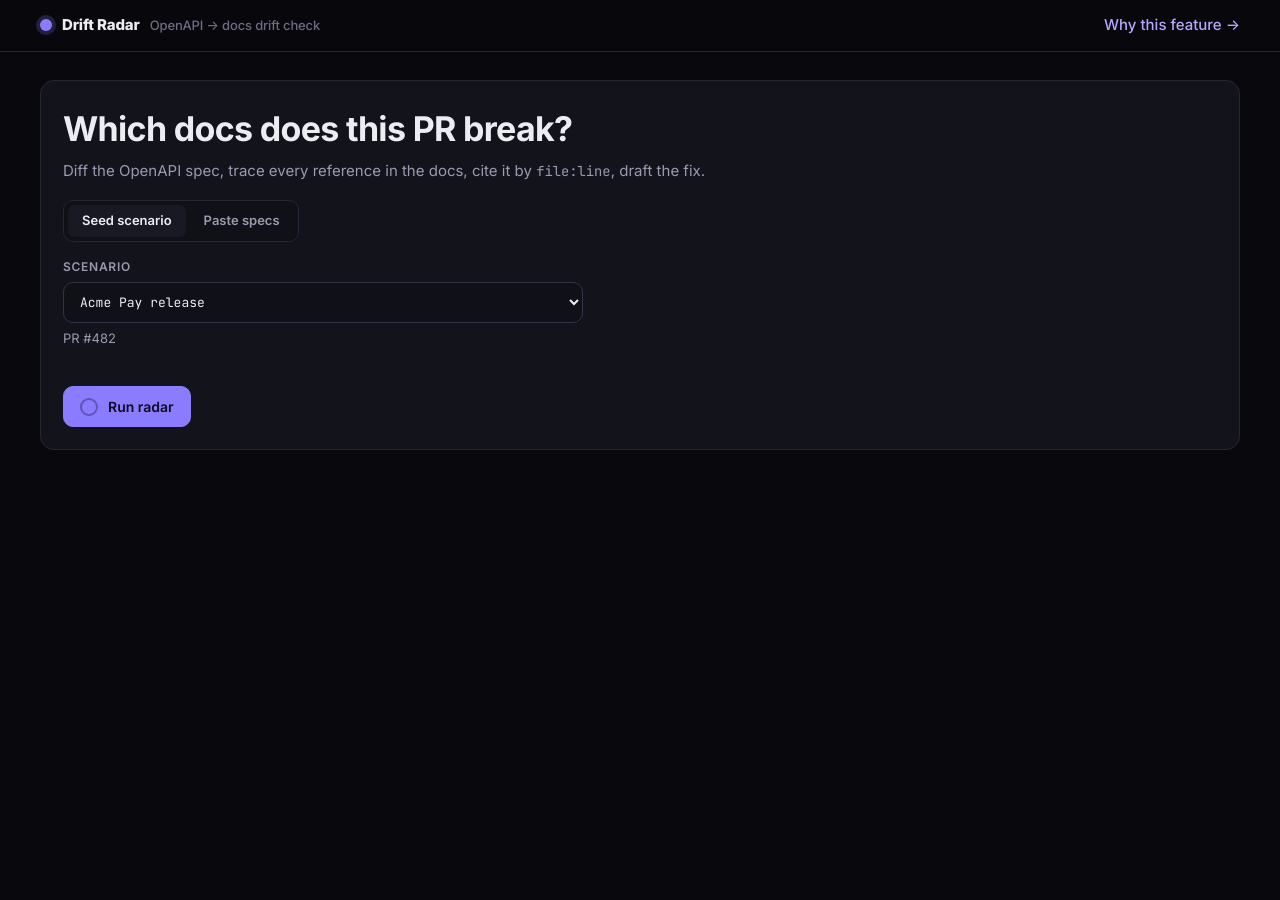
Radar page › surfaces API errors from pasted specs
The image size is (1280, 900).
Click the tab "Paste specs" at (242,221), box [190,205,294,236]
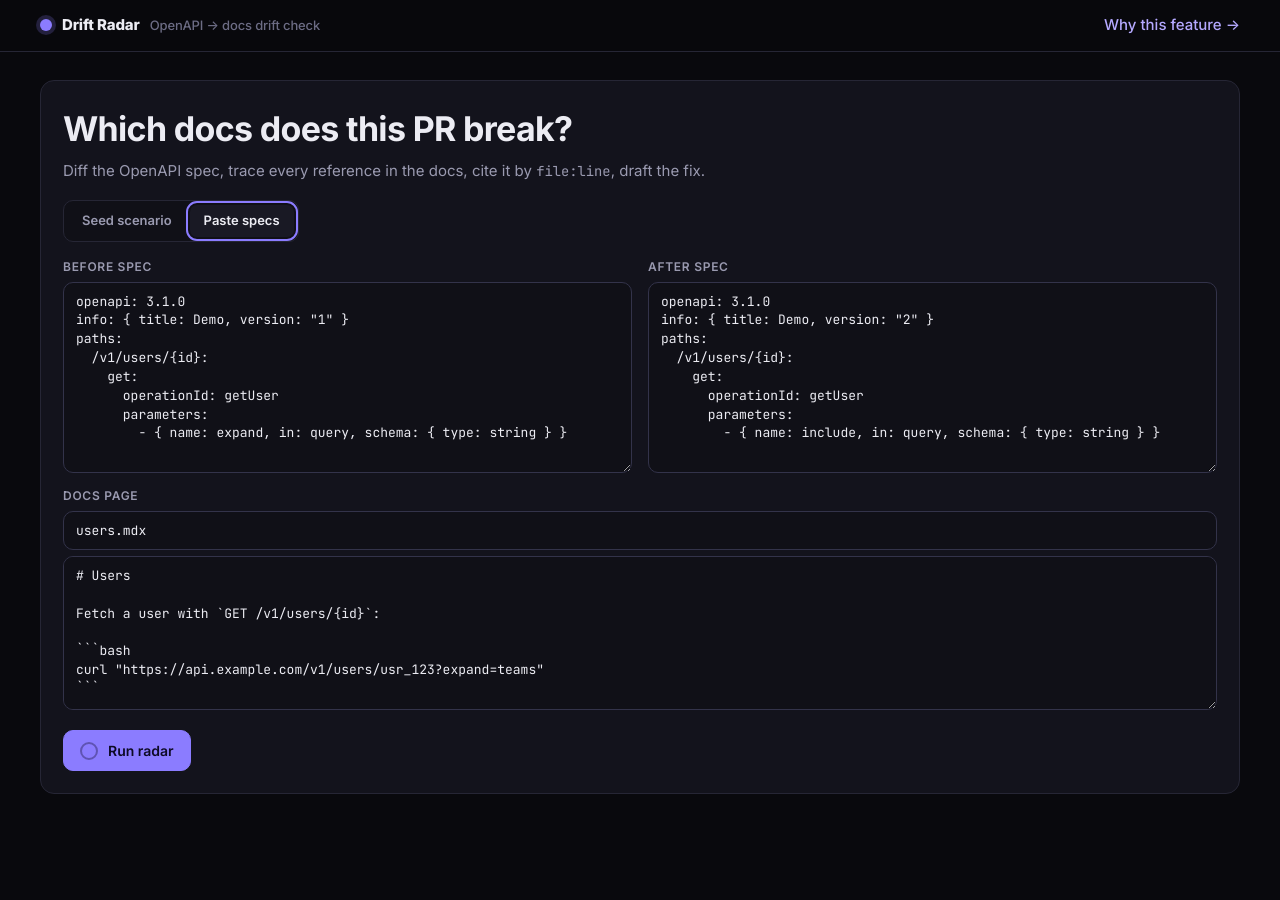
Replace the text in the text box labelled "Before spec" with "bad" at (348,377), box [63,282,632,473]
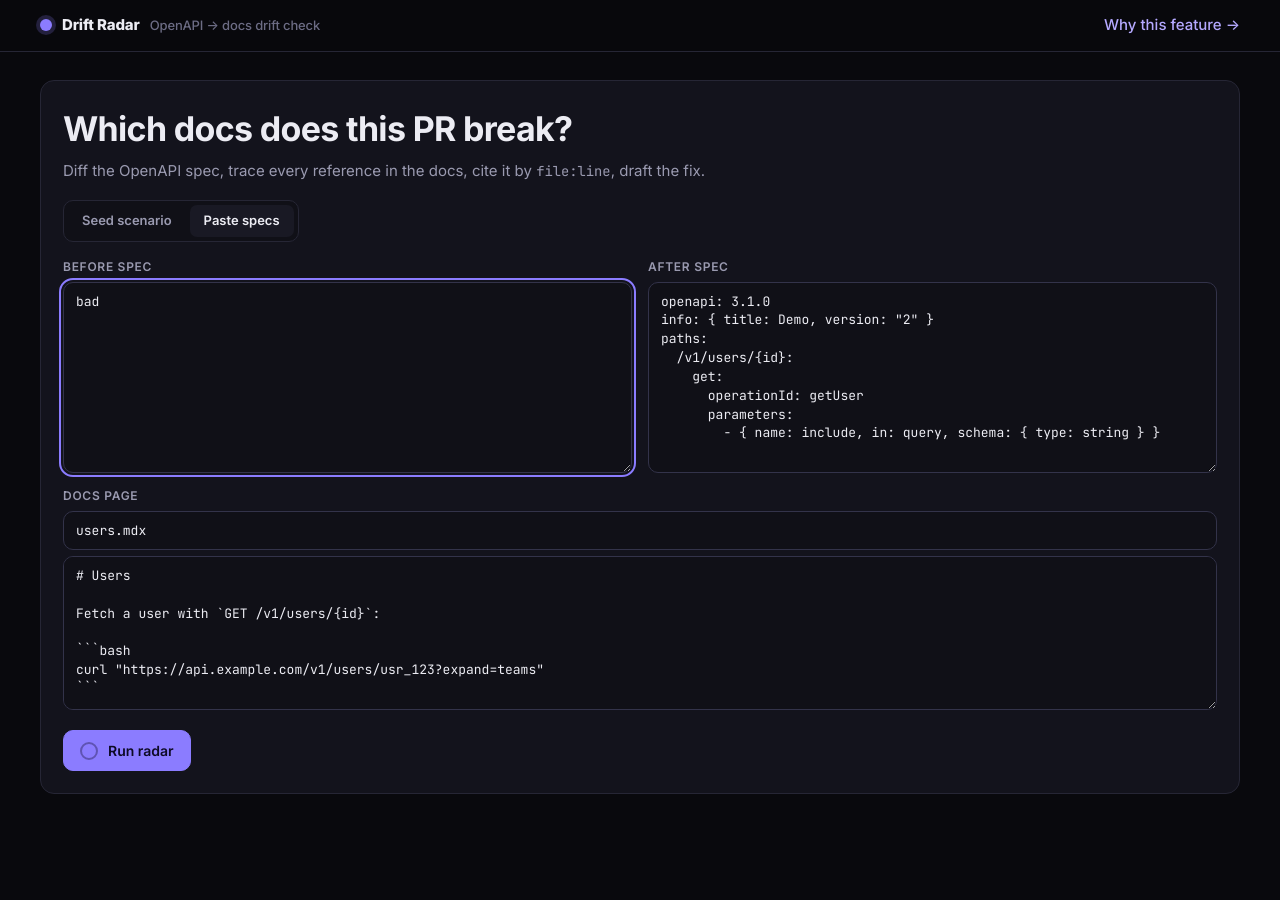
Click the button "Run radar" at (127,750), box [63,730,191,771]
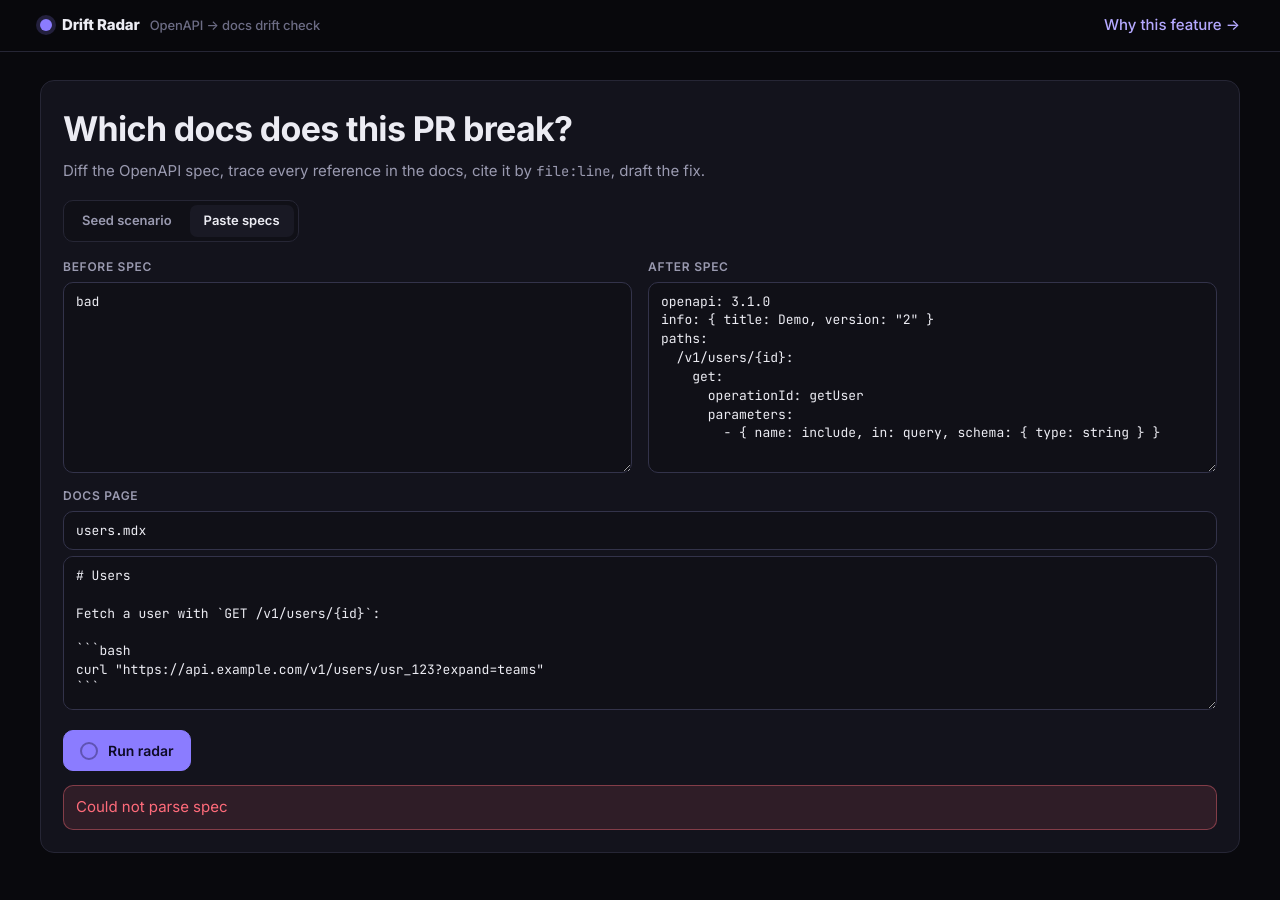
Now the message reads "Could not parse spec", box [76,797,228,816]
